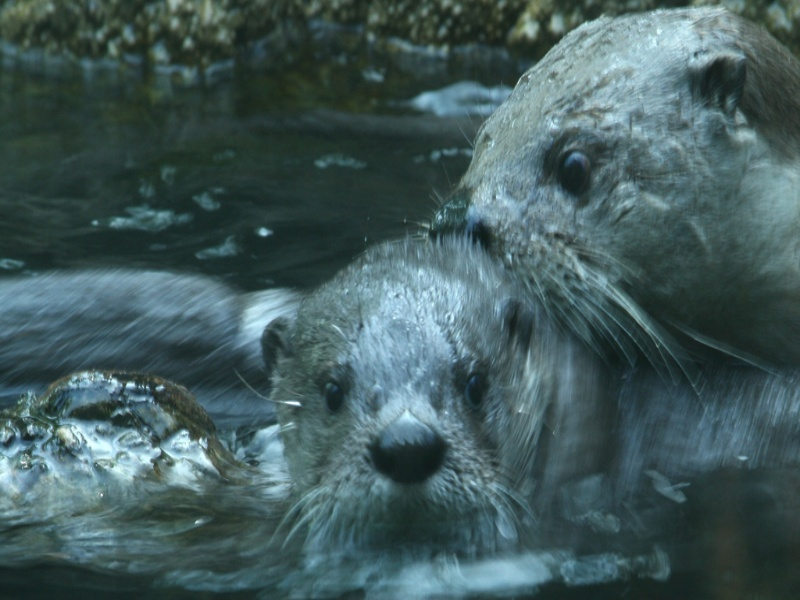minkish: (459, 7, 797, 370), (261, 216, 605, 553)
